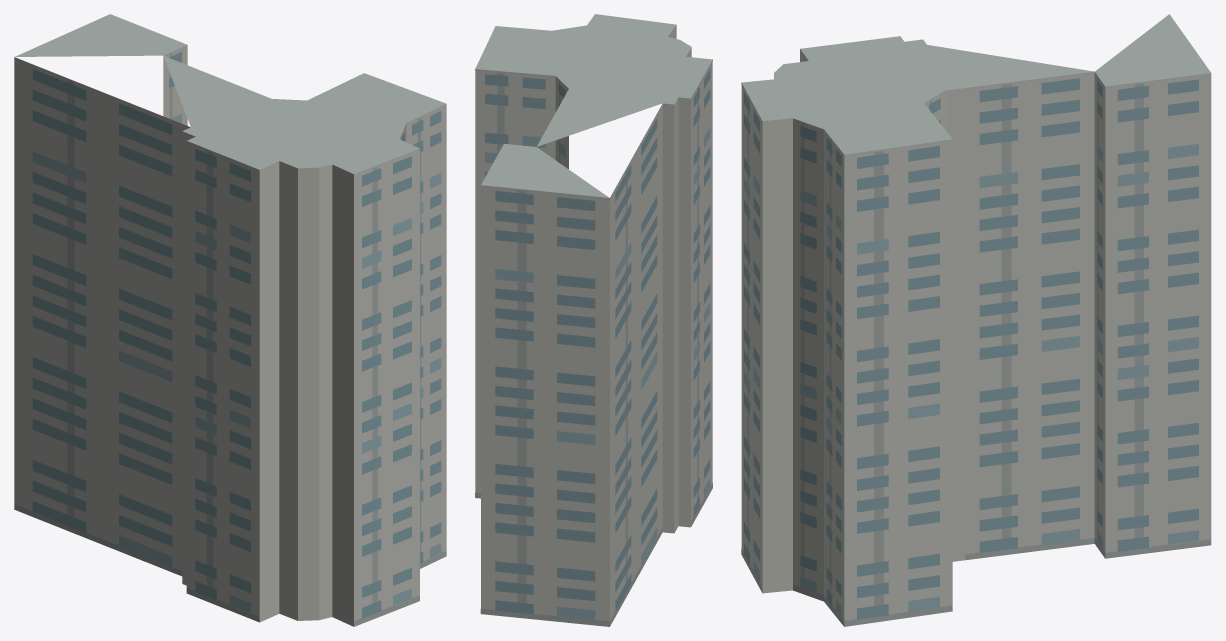
Rendered from residential-415f10a6-bdc1-4575-914c-e726f7ca289f.glb.
3 renders of one model, left to right at view 1: azimuth 30°, elevation 25°; view 2: azimuth 150°, elevation 25°; view 3: azimuth 270°, elevation 25°, orthographic. The views are drawn at different scales.
Visible parts, largest first — view 1: residential-415f10a6-bdc1-4575-914c-e726f7ca289f.tmp; view 2: residential-415f10a6-bdc1-4575-914c-e726f7ca289f.tmp; view 3: residential-415f10a6-bdc1-4575-914c-e726f7ca289f.tmp.
Part boxes in pixels (x1,y1,x2,y2): residential-415f10a6-bdc1-4575-914c-e726f7ca289f.tmp: (14, 14, 446, 626); residential-415f10a6-bdc1-4575-914c-e726f7ca289f.tmp: (475, 14, 712, 626); residential-415f10a6-bdc1-4575-914c-e726f7ca289f.tmp: (741, 14, 1211, 626).
Bounding box in the file's own units: 38.36 × 60 × 54.12.
